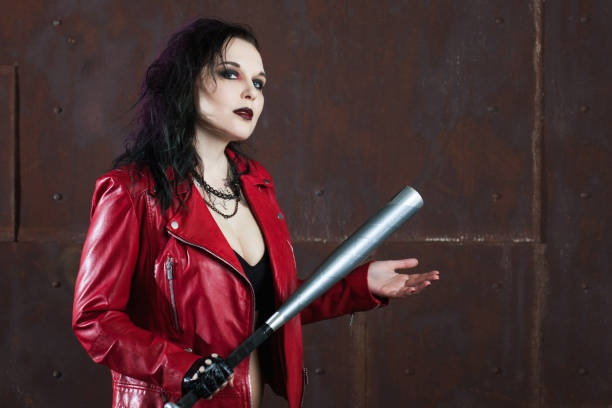bita: (197, 183, 425, 387)
